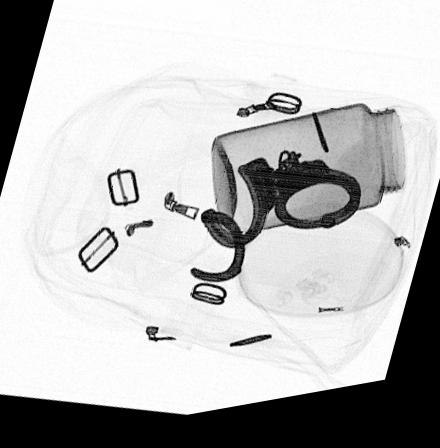HandCuffs: (188, 158, 361, 290)
